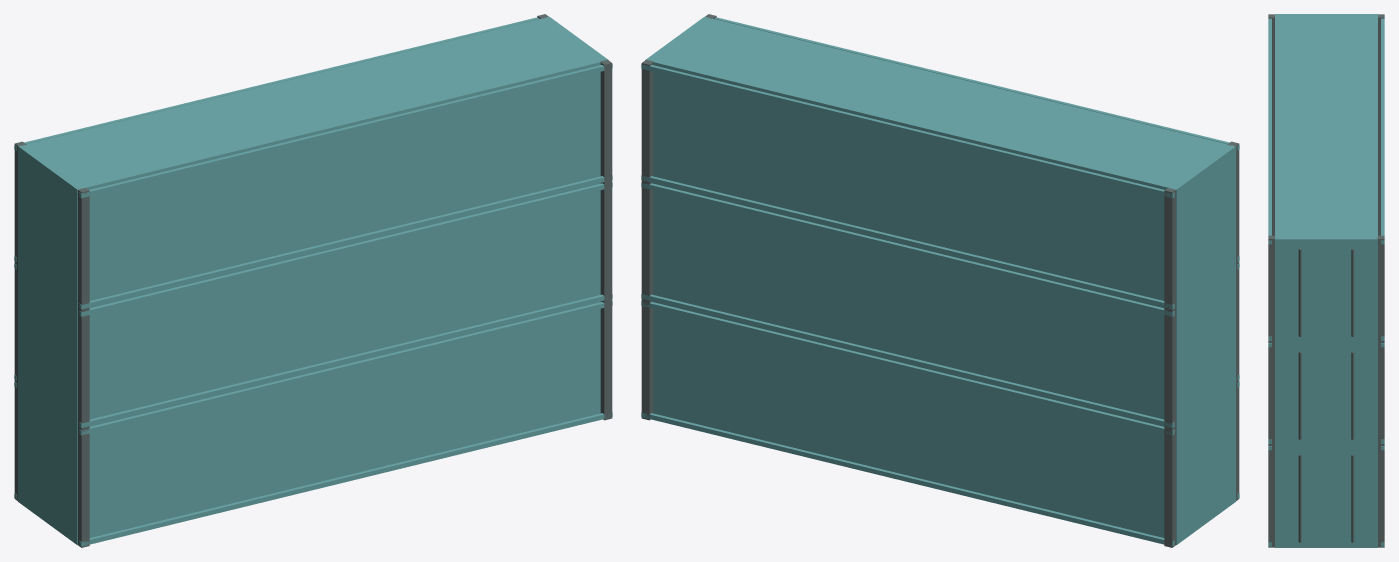
3 views of the same model, side by side, from view 1: azimuth 30°, elevation 25°; view 2: azimuth 150°, elevation 25°; view 3: azimuth 270°, elevation 25° (orthographic). The views are drawn at different scales.
Bounding box in the file's own units: 12.36 × 7.8 × 2.66.
